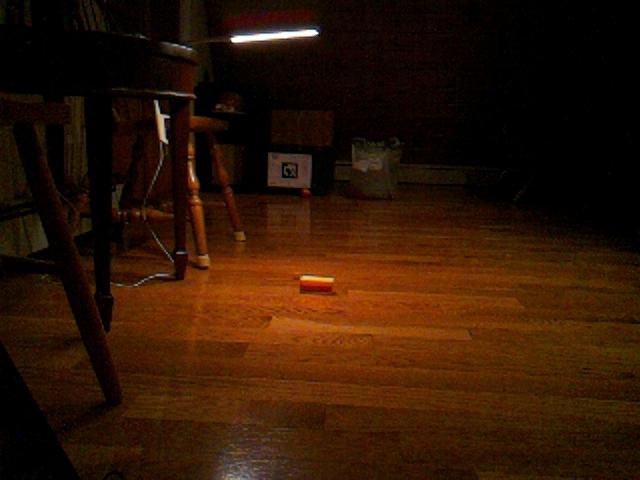yellow: (298, 274, 336, 294)
